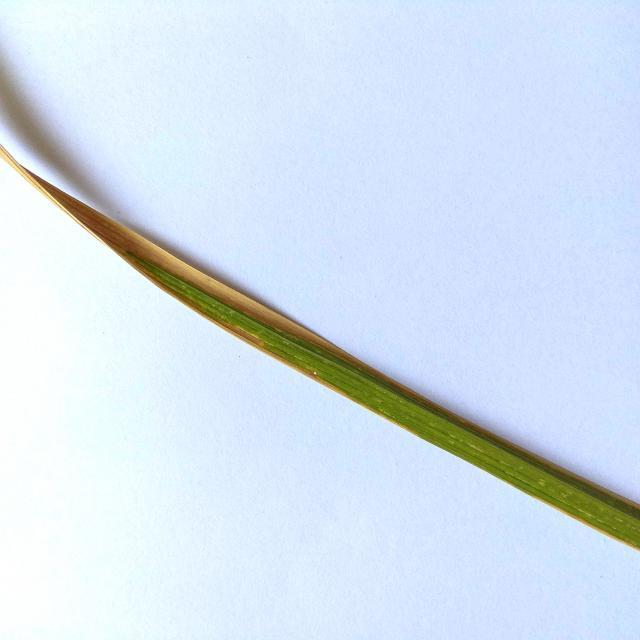Blast: (308, 366, 326, 378)
